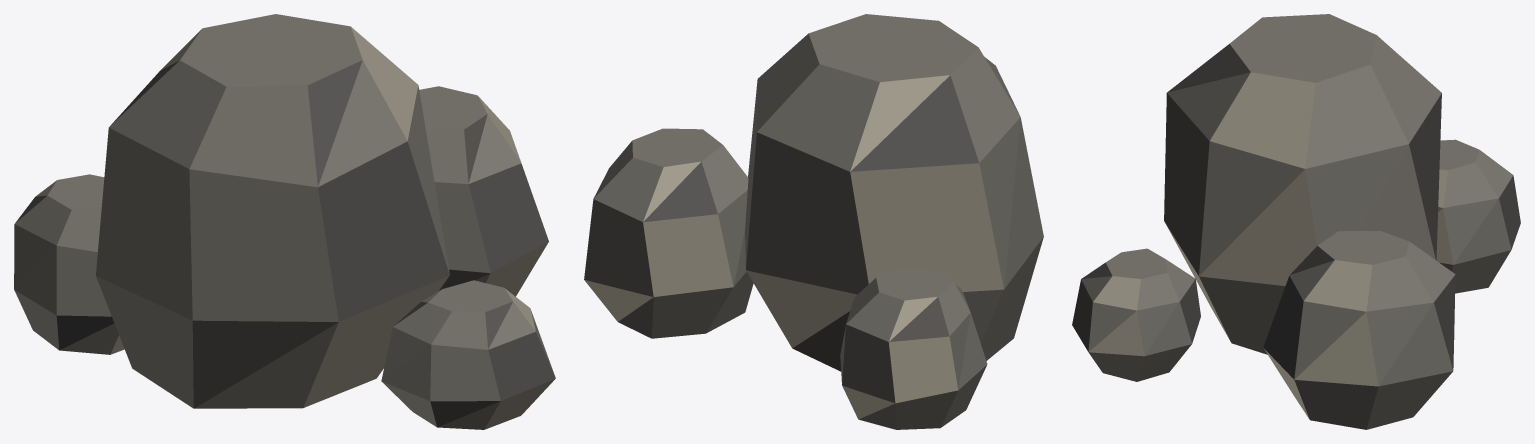
File: RockSample.fbx
The picture shows the model from 3 angles, left to right: view 1: azimuth 30°, elevation 25°; view 2: azimuth 150°, elevation 25°; view 3: azimuth 270°, elevation 25°; orthographic projection. The views are drawn at different scales.
Visible parts, largest first — view 1: RockSample_Mesh; view 2: RockSample_Mesh; view 3: RockSample_Mesh.
Part boxes in pixels (box(x1,y1,x2,y2)): RockSample_Mesh: box(14, 14, 555, 429); RockSample_Mesh: box(584, 14, 1043, 429); RockSample_Mesh: box(1072, 14, 1520, 429).
Bounding box in the file's own units: 0.8878 × 0.5841 × 0.8802.
